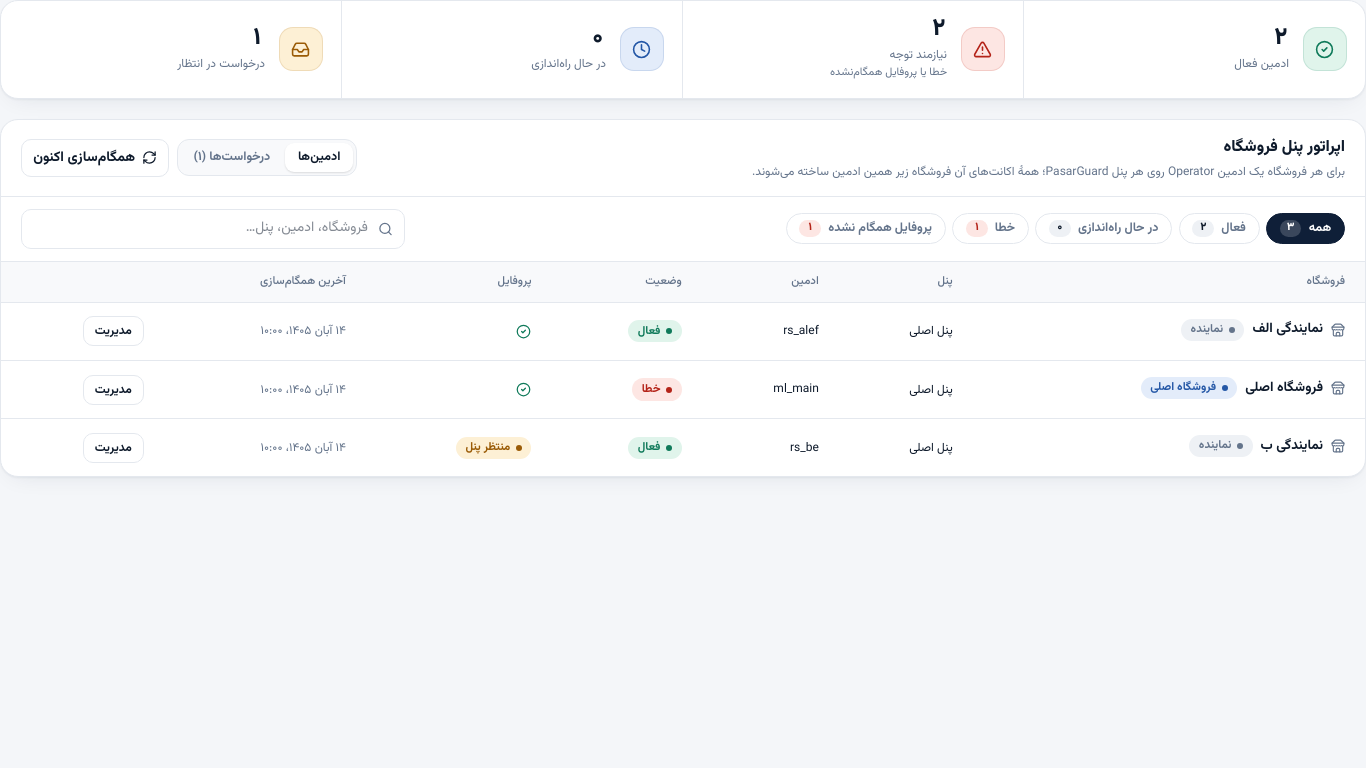
Test: admin: reseller change requests › a decided request is read-only and shows the review note
This screenshot has width=1366, height=768.
expect the text "rs_alef" is shown: met, box [783,322,819,340]
What coordinates should you click on to do the following:
click the radio button labelled "درخواست‌ها (۱)"
I would click on:
 (232, 157)
Its box is [181,142,283,172].
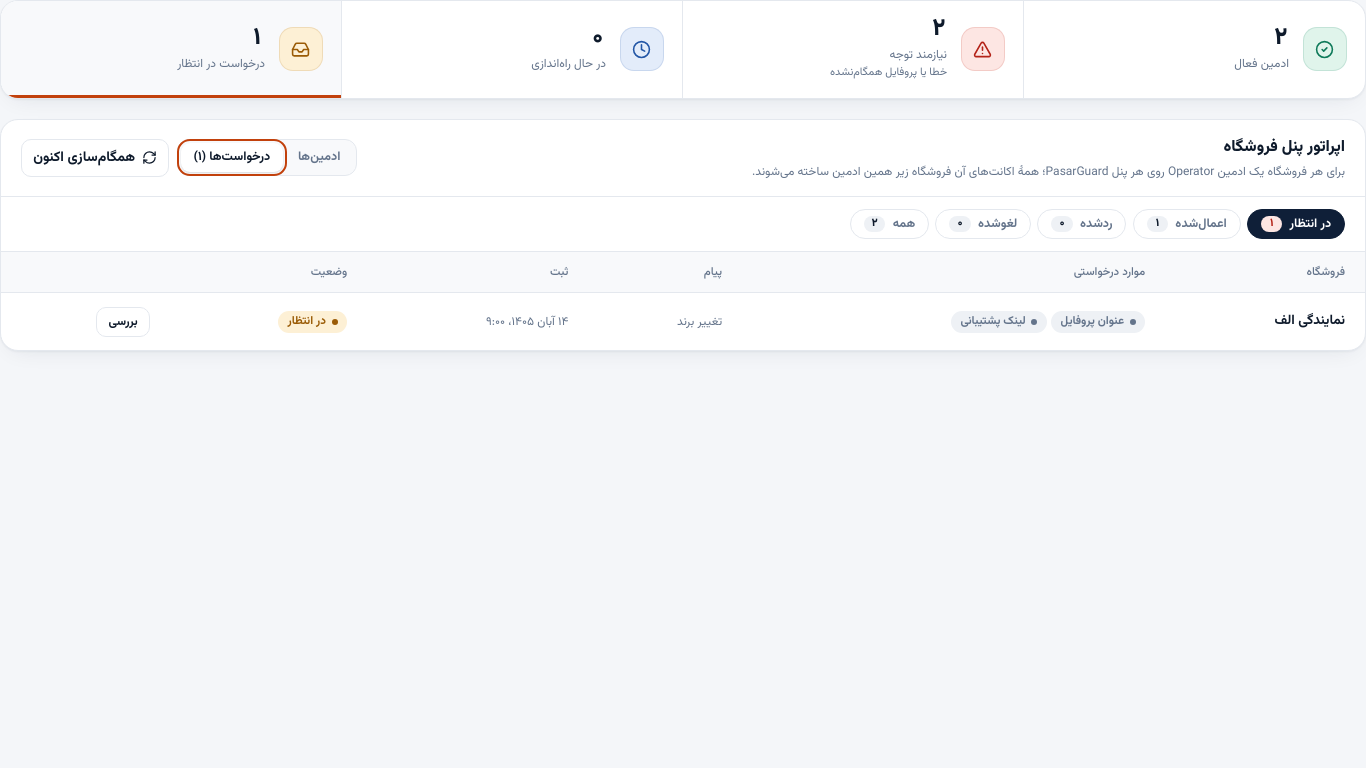
What coordinates should you click on to do the following:
click the button "اعمال‌شده ۱"
I would click on:
 (1187, 224)
Its box is [1133,208,1241,239].
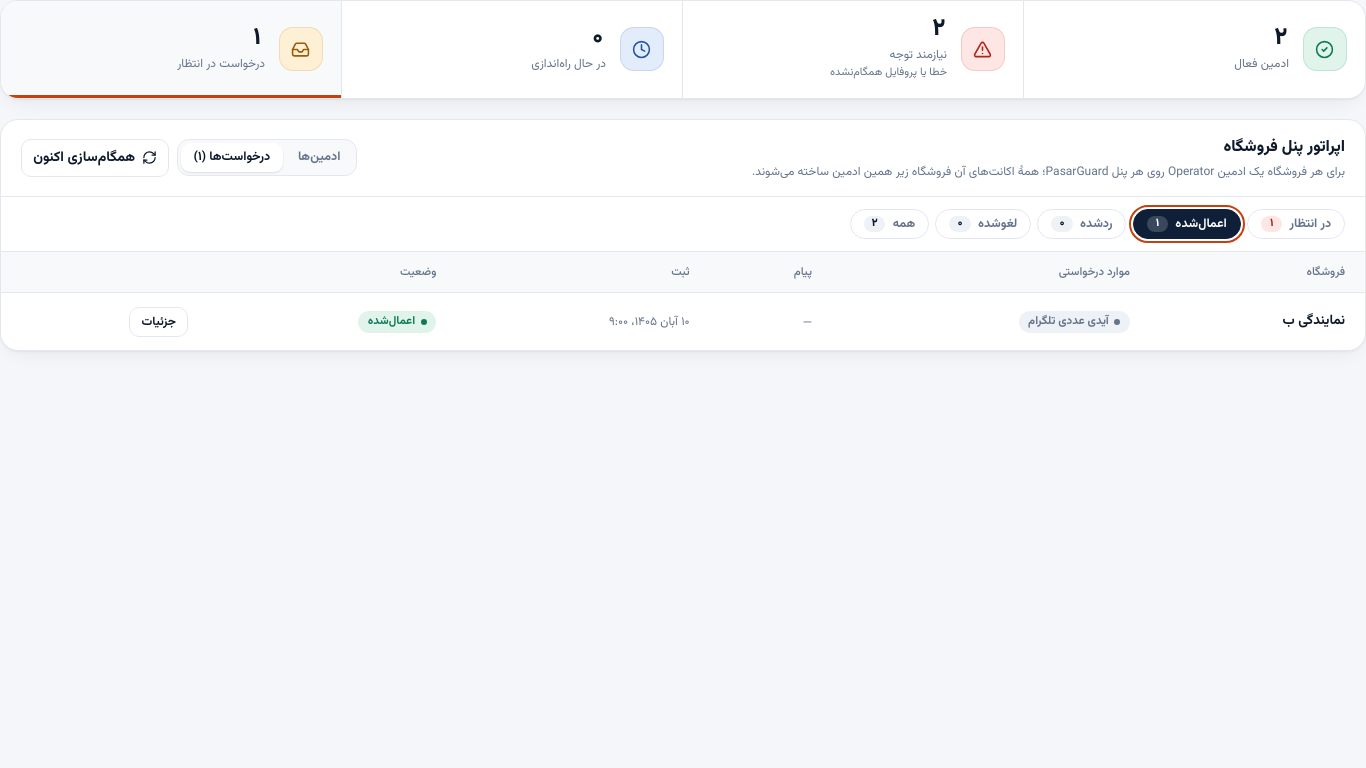
What coordinates should you click on to do the following:
click the button "جزئیات"
I would click on:
 (159, 322)
Its box is [129,307,188,337].
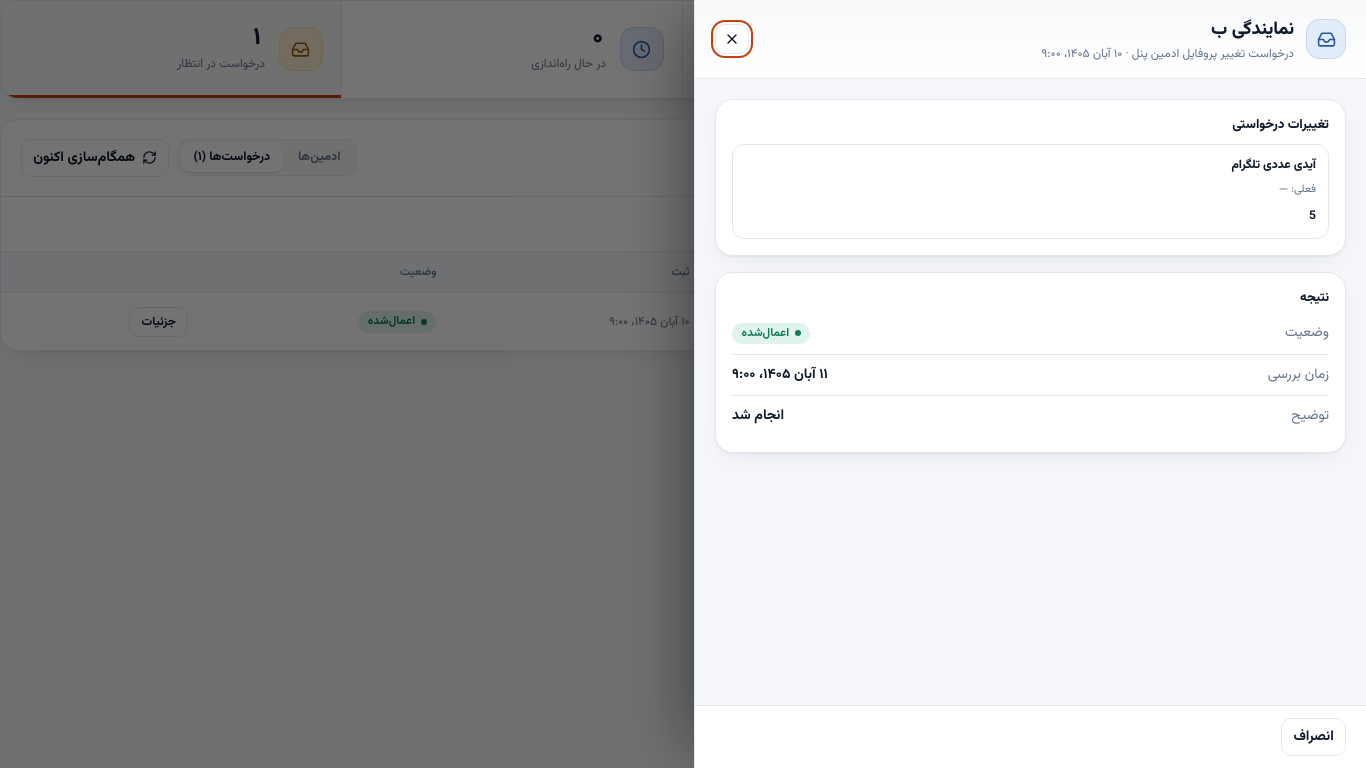
expect the text "انجام شد" is shown: met, box [732,406,784,426]
